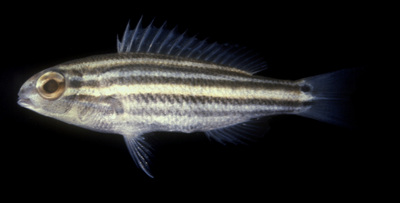fish: (17, 17, 342, 182)
